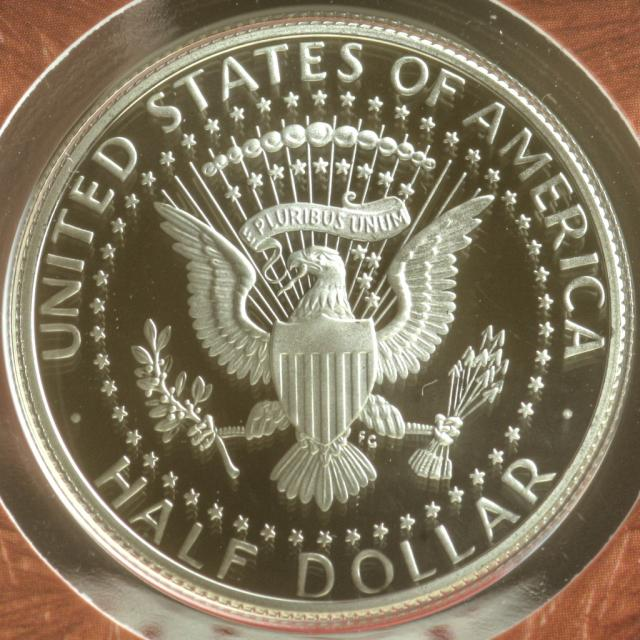Coin: (0, 2, 632, 626)
